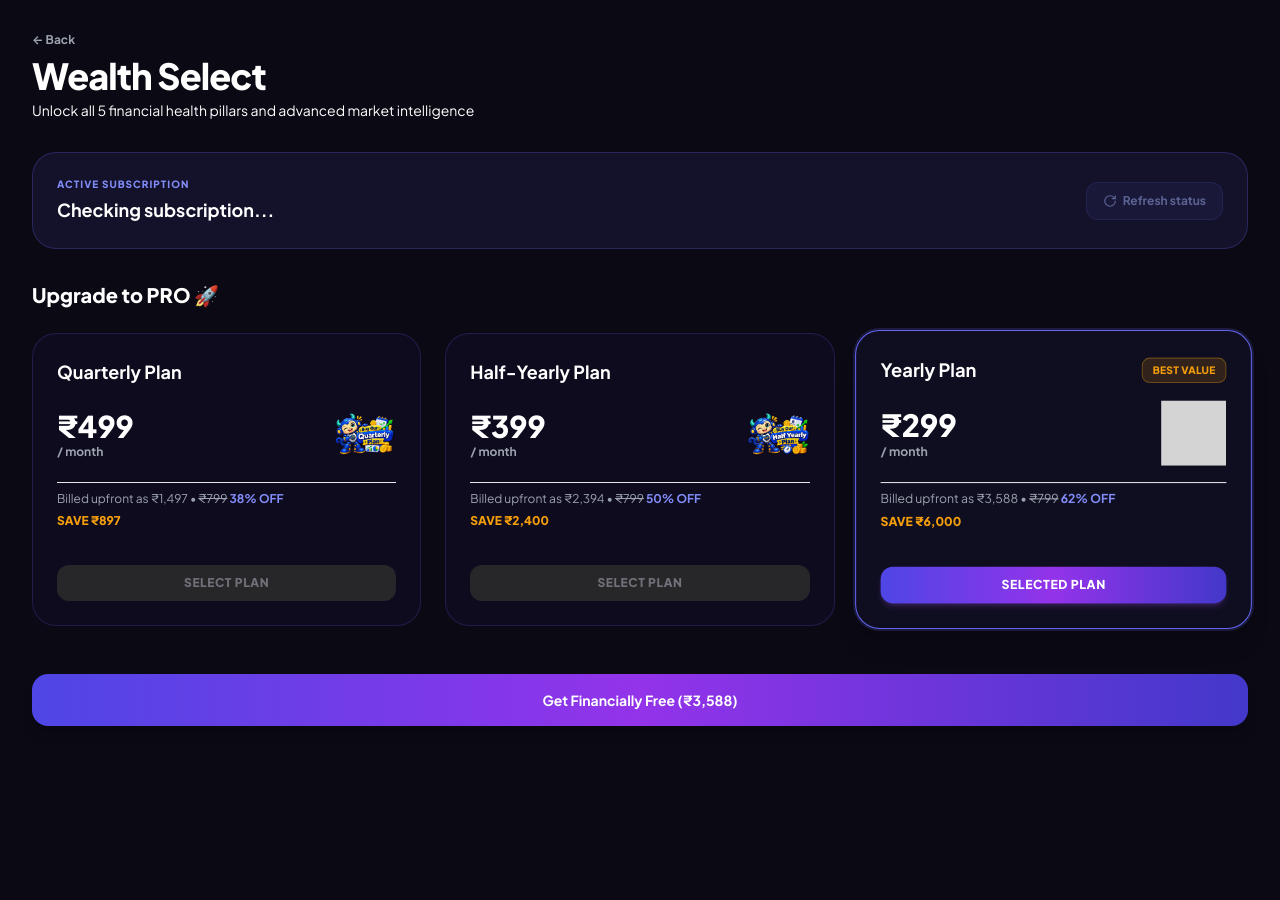
Scenario: Subscription Purchase & Realtime Sync Tests › 3. Cancelling checkout shows "Payment cancelled." toast without failure message or granting PRO
Click the button with test id "buy-plan-btn" at coordinates (640, 700), box x1=32 y1=674 x2=1248 y2=726
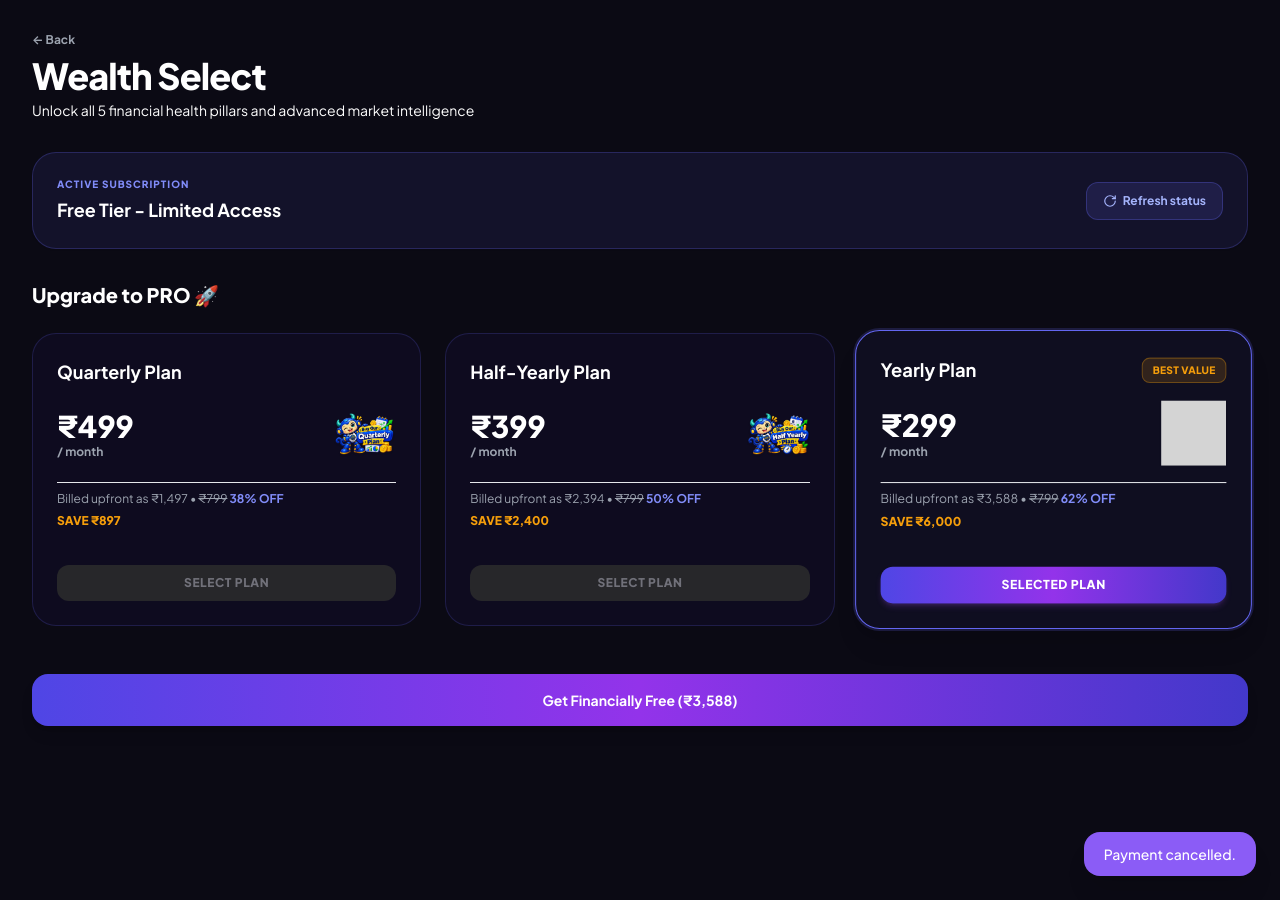
Result: the text "Payment cancelled." is shown at x1=1104 y1=844 x2=1236 y2=864
